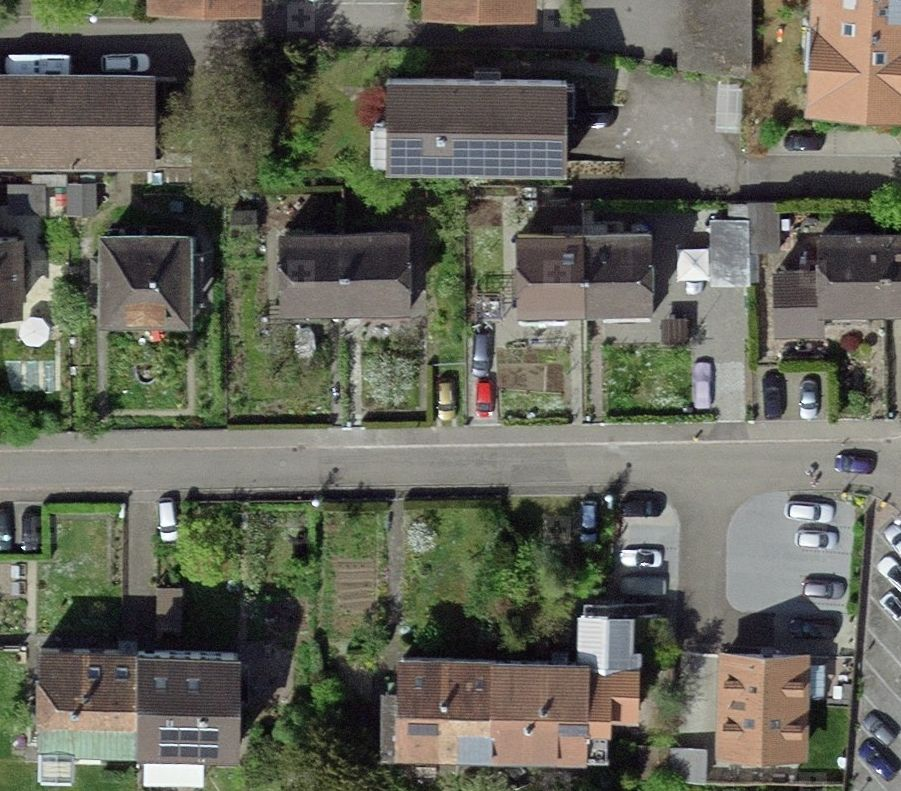solar: (384, 136, 568, 181), (145, 716, 229, 767)
